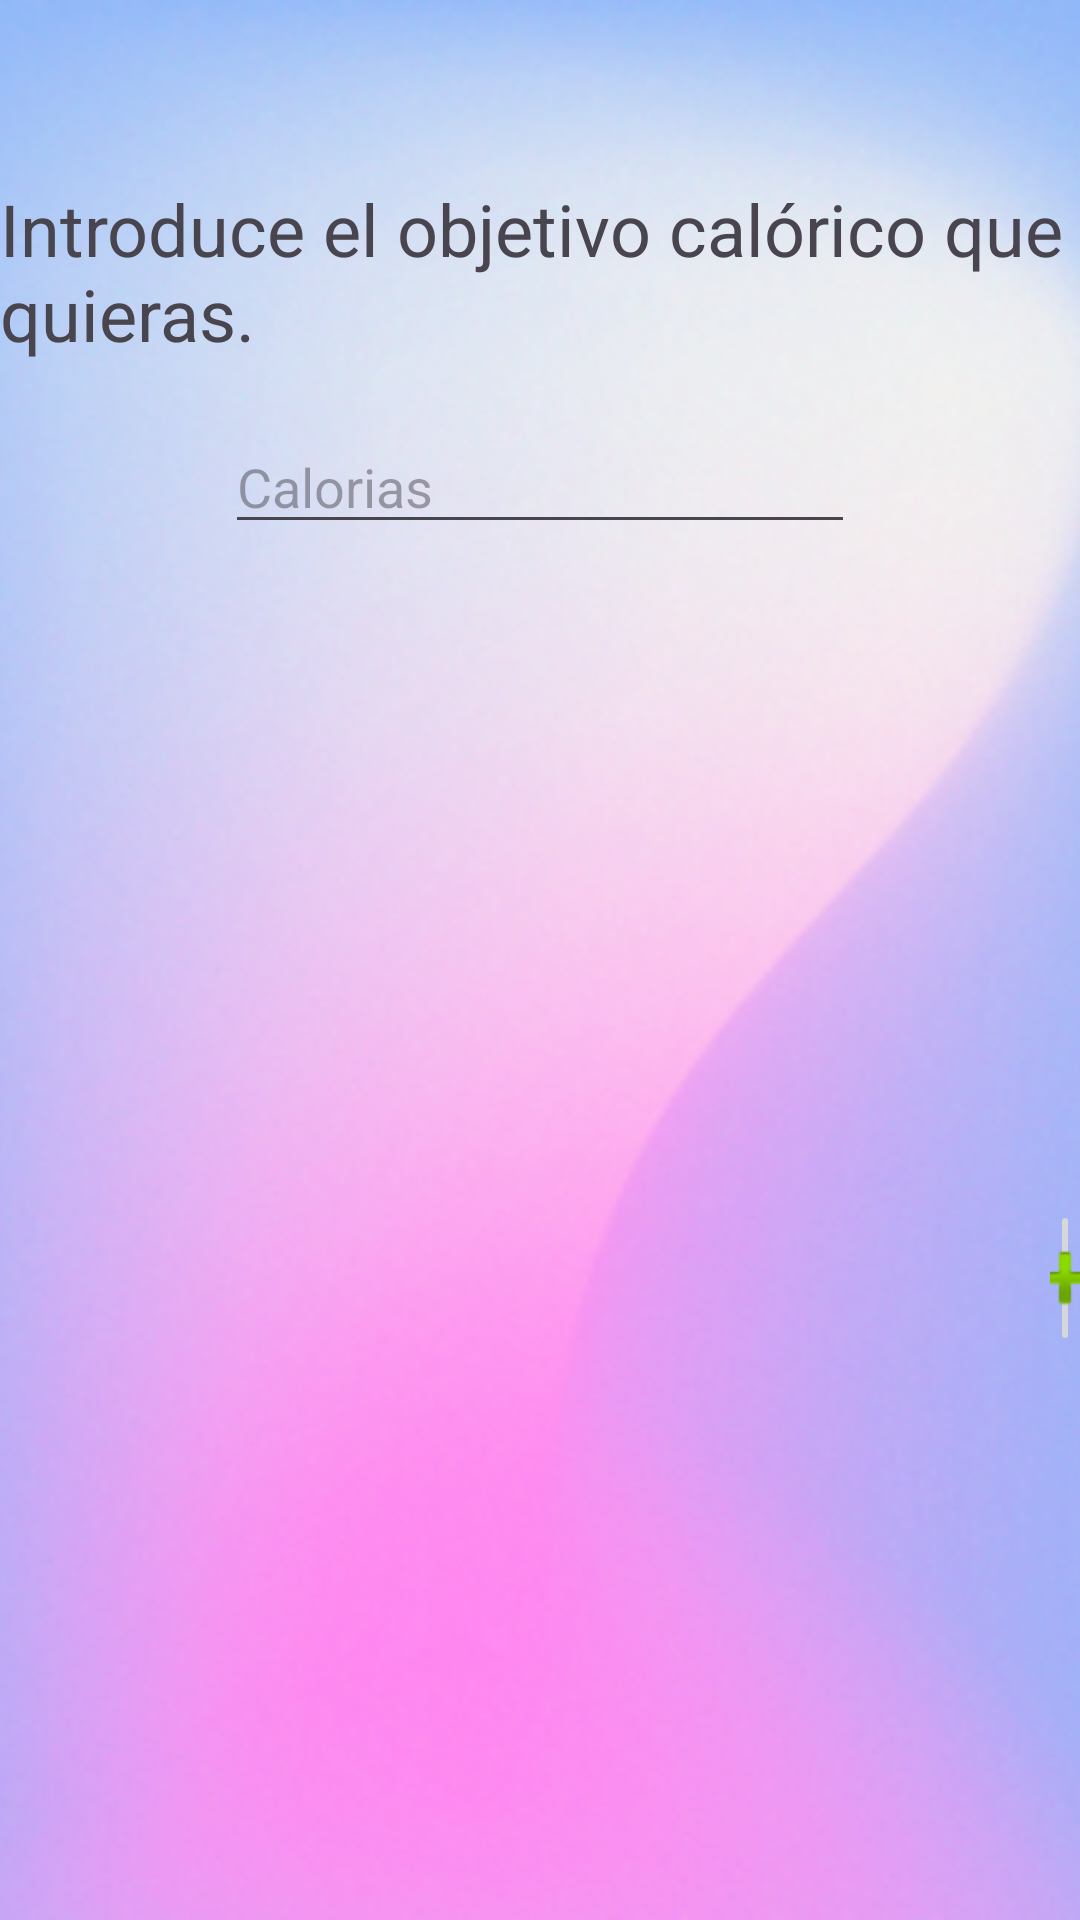

Icon click points for this 1080px x 1920px phone screenshot, format [x,y]:
add: [1065,1278]
